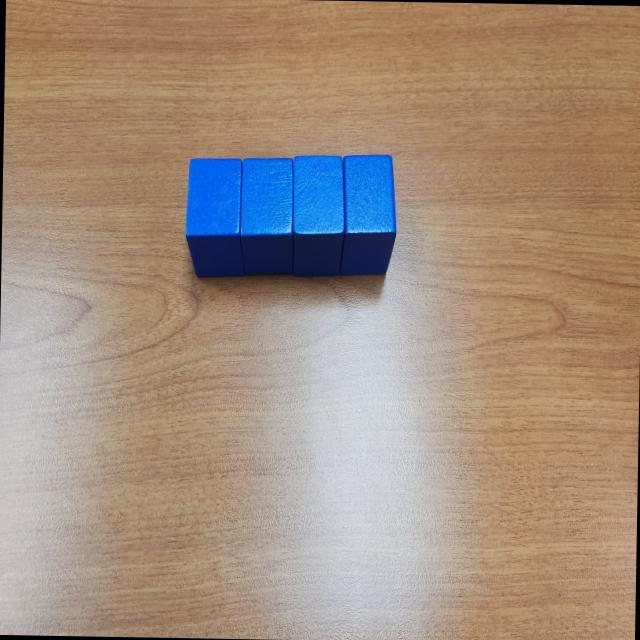blue: (184, 156, 247, 279), (340, 152, 398, 277), (238, 155, 296, 277), (290, 154, 346, 278)
